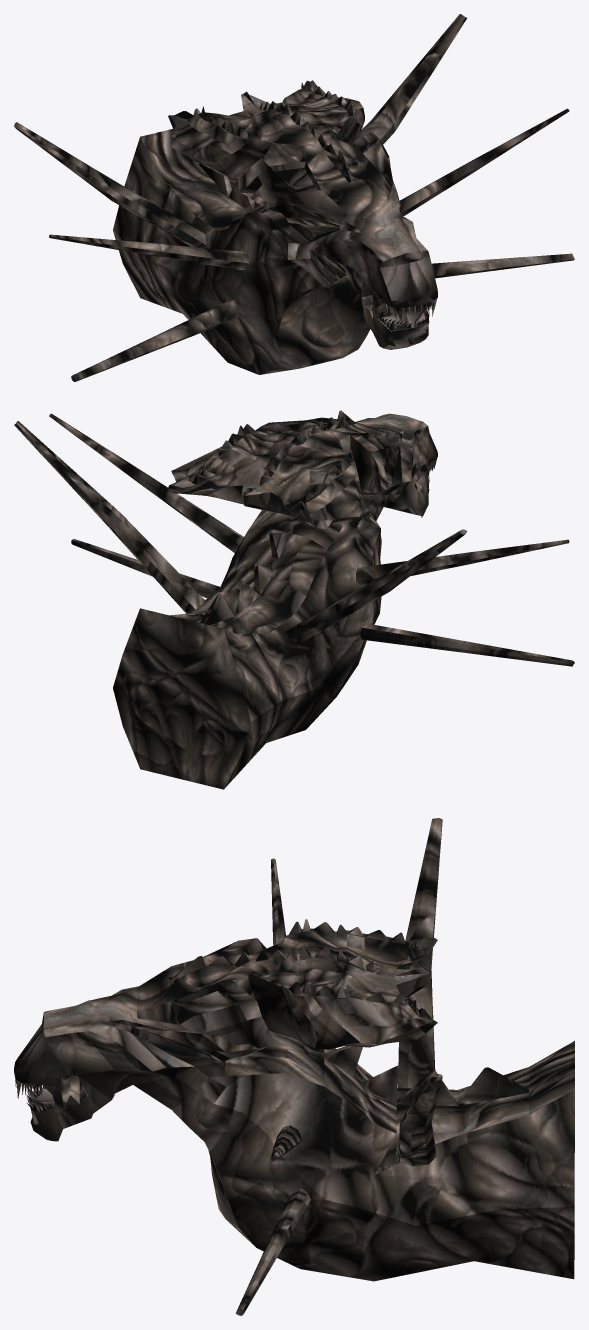
The model's file is madre.obj.
3 views of the same model, one above another, from view 1: azimuth 30°, elevation 25°; view 2: azimuth 150°, elevation 25°; view 3: azimuth 270°, elevation 25° (orthographic). The views are drawn at different scales.
Parts seen in each view (by area): view 1: Plane; view 2: Plane; view 3: Plane.
Boxes of the visible parts, x1,y1,x2,y2 form: Plane: [14, 14, 574, 381]; Plane: [14, 410, 574, 789]; Plane: [14, 818, 574, 1315].
Size of the model in its own units: 217 by 106 by 172.
